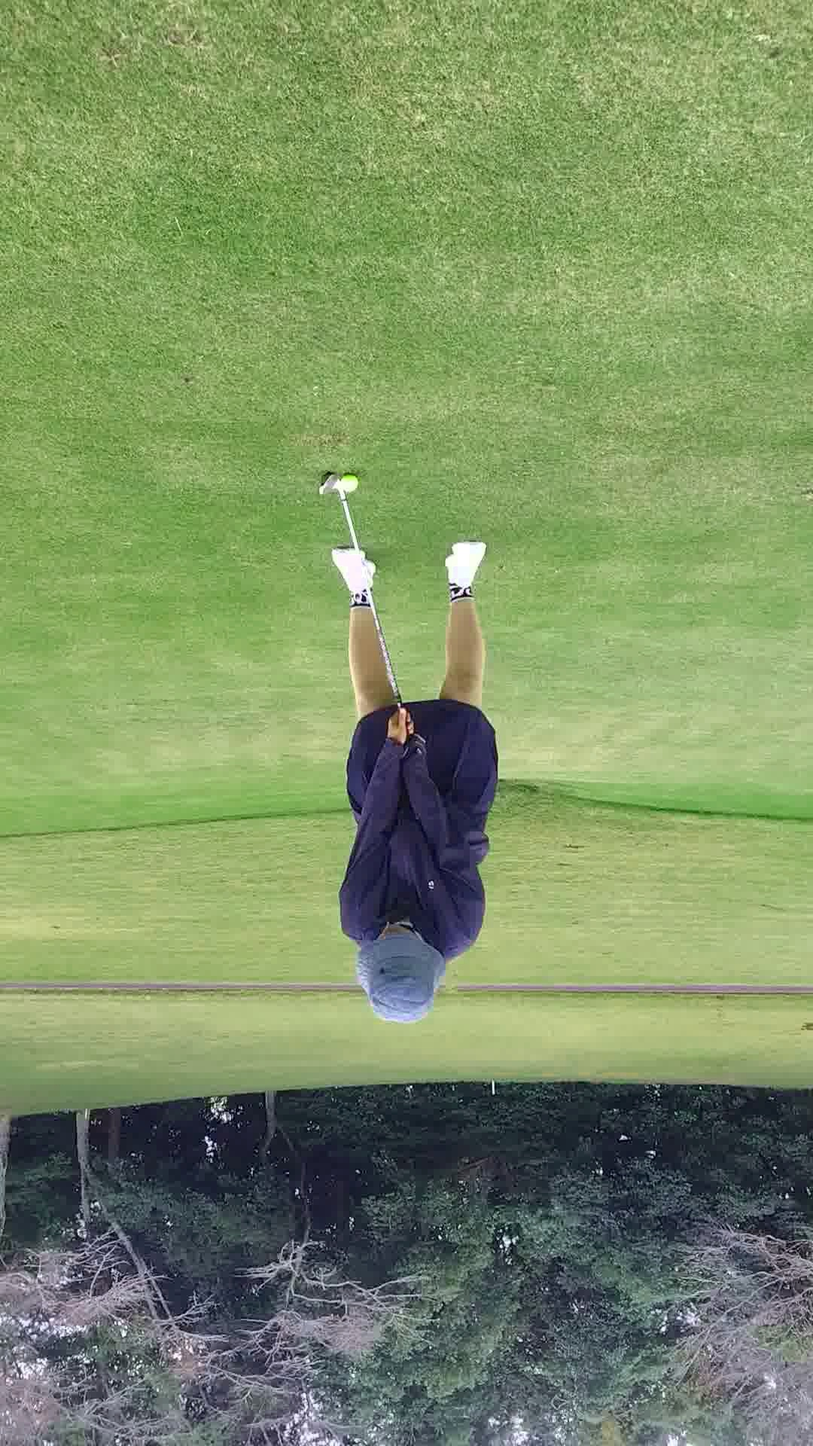clubhead: (262, 427, 400, 518)
